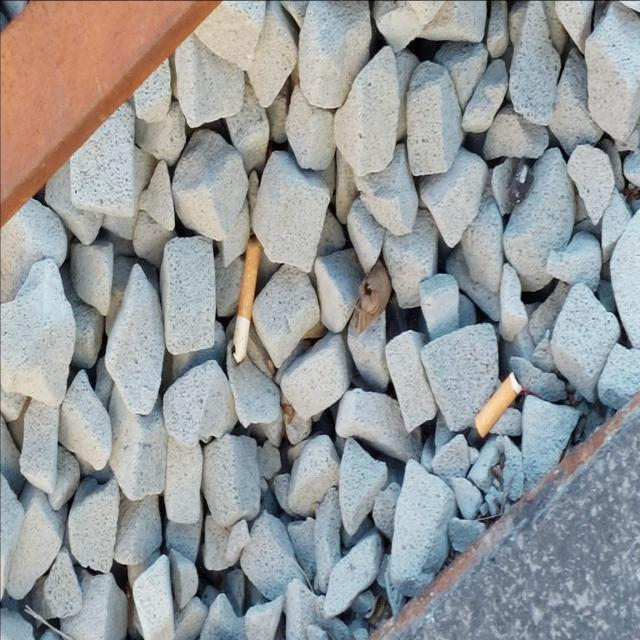other waste: (231, 234, 261, 366), (473, 369, 523, 439)
